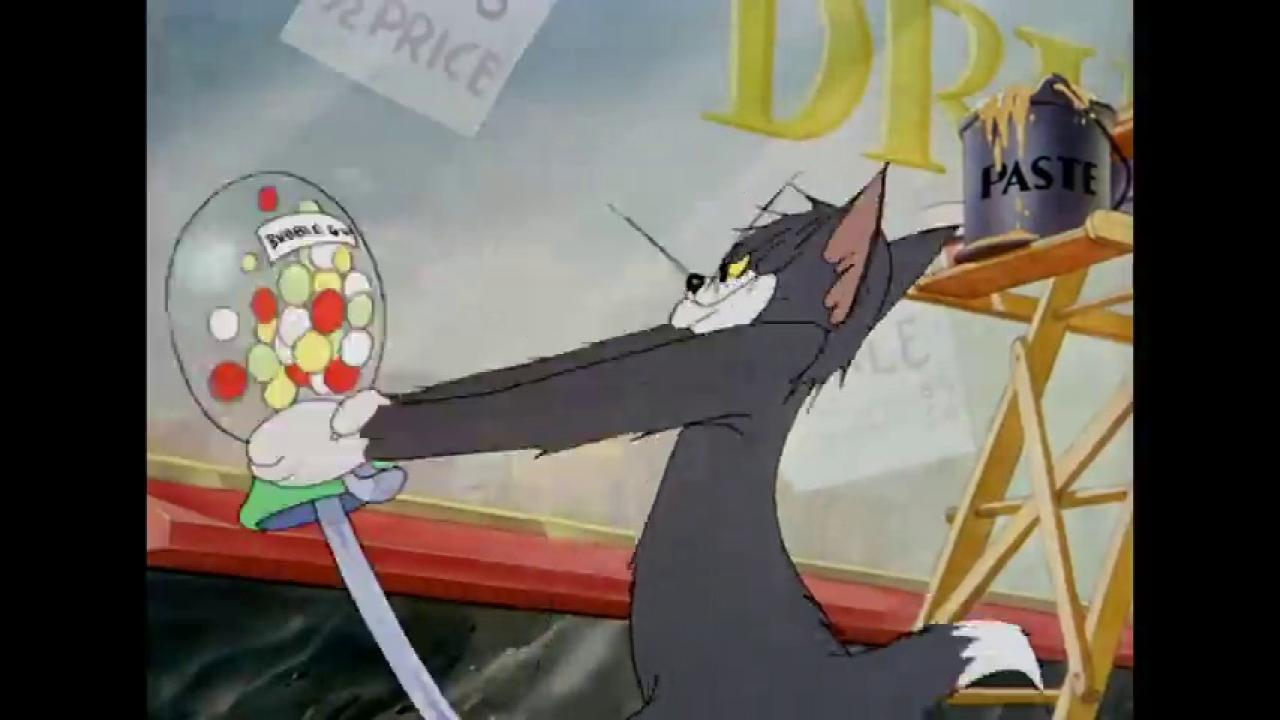Tom: (246, 159, 1046, 720)
